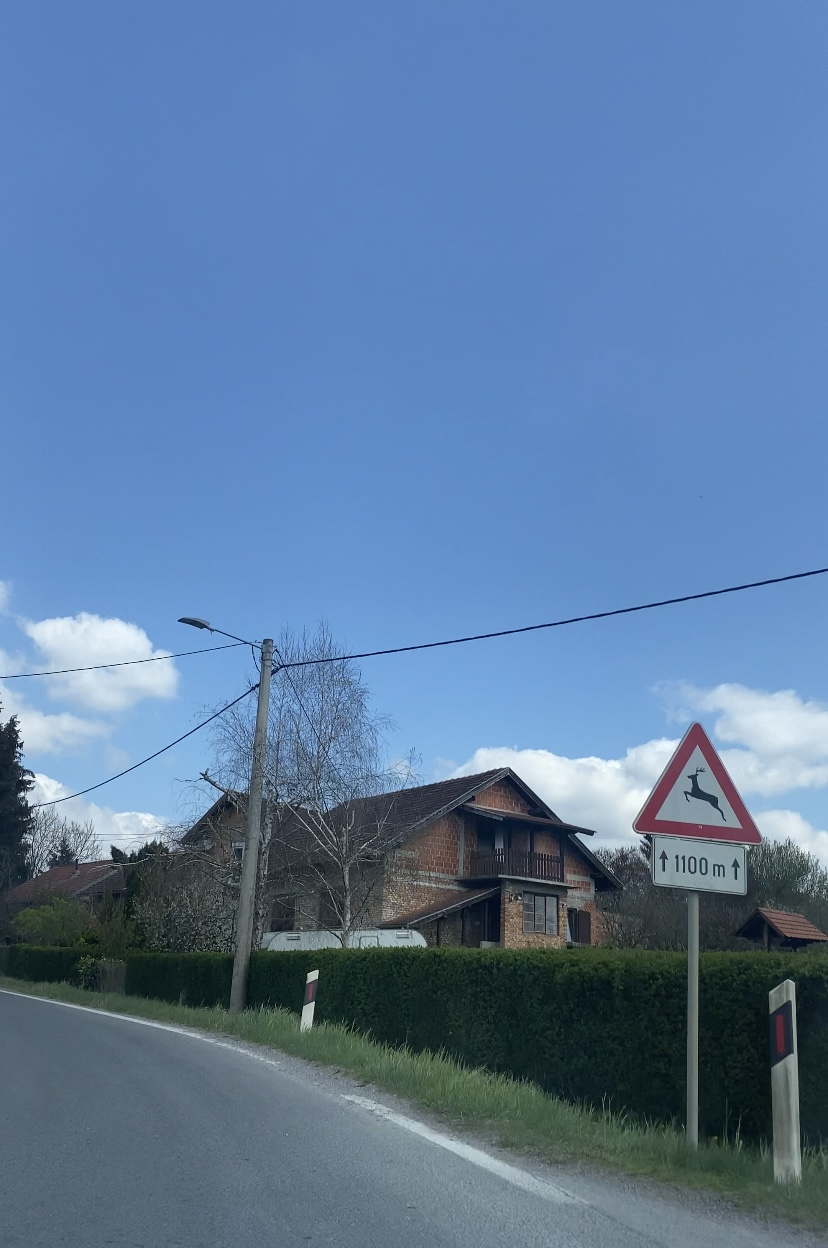Divljač na cesti: (633, 721, 764, 845)
